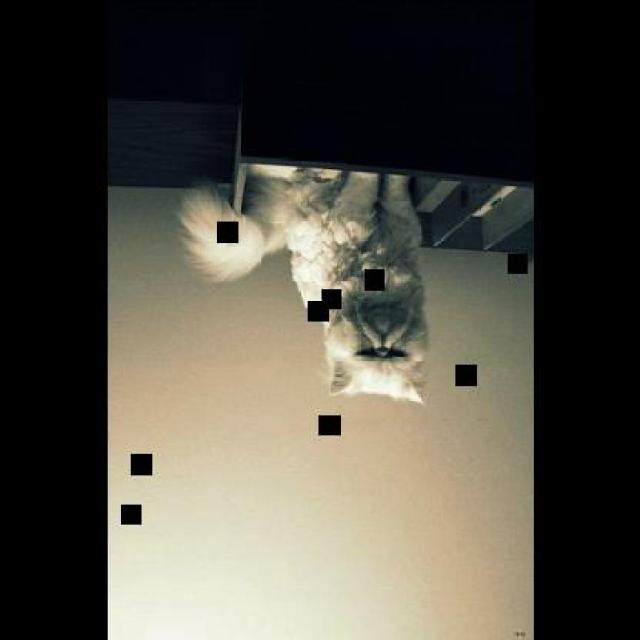unauthorized: (174, 163, 429, 405)
